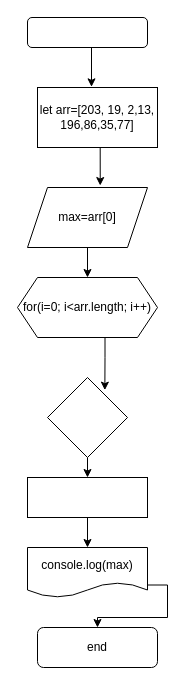
Some shapes in this 193 by 685 pixel diagram are drawn without their labels. The shapes that lost their labels are listed below. From the top down, each one's centre as x and y in pixels, then its label:
the point at 87,32: start
the point at 87,417: arr[i]>max
the point at 87,497: max=arr[i]
